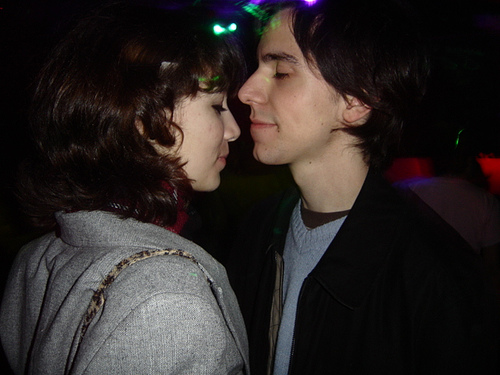without_mask: (79, 26, 244, 212), (236, 8, 399, 181)
